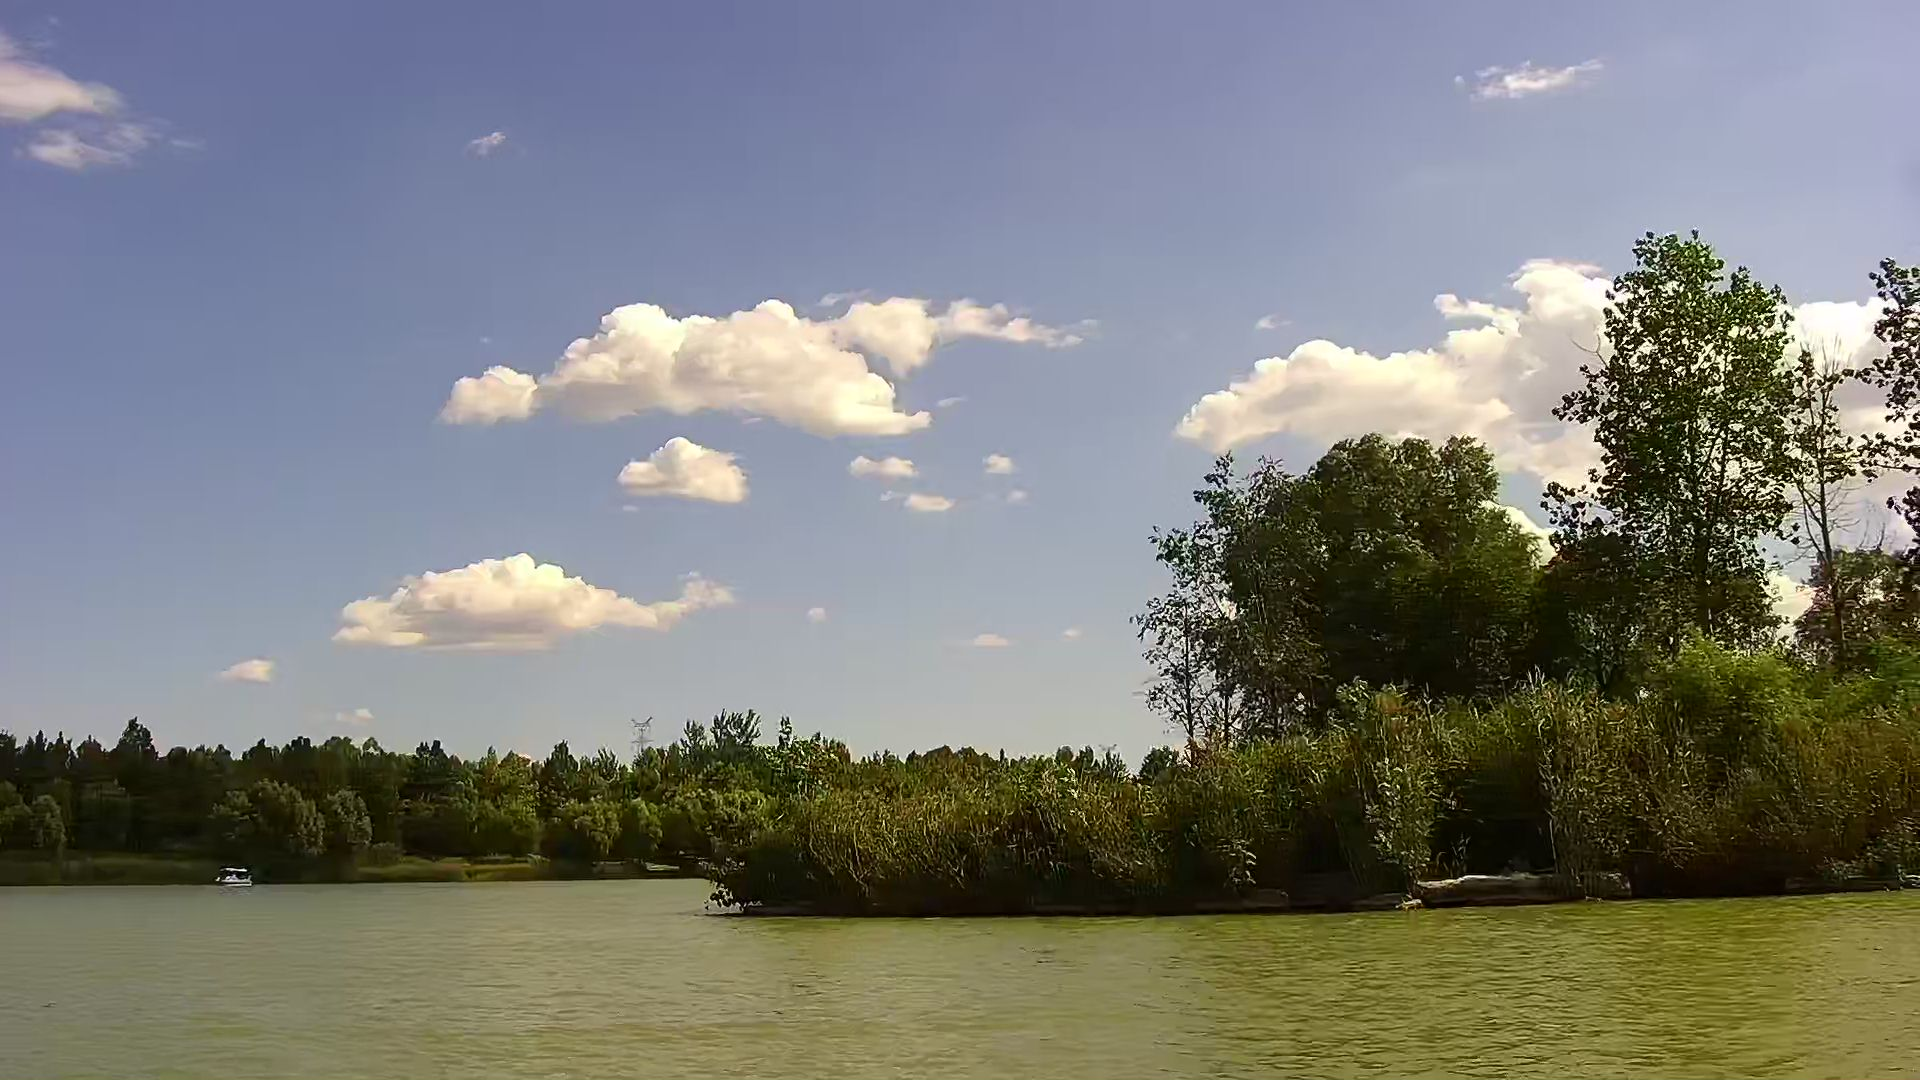boat: (212, 861, 253, 887)
